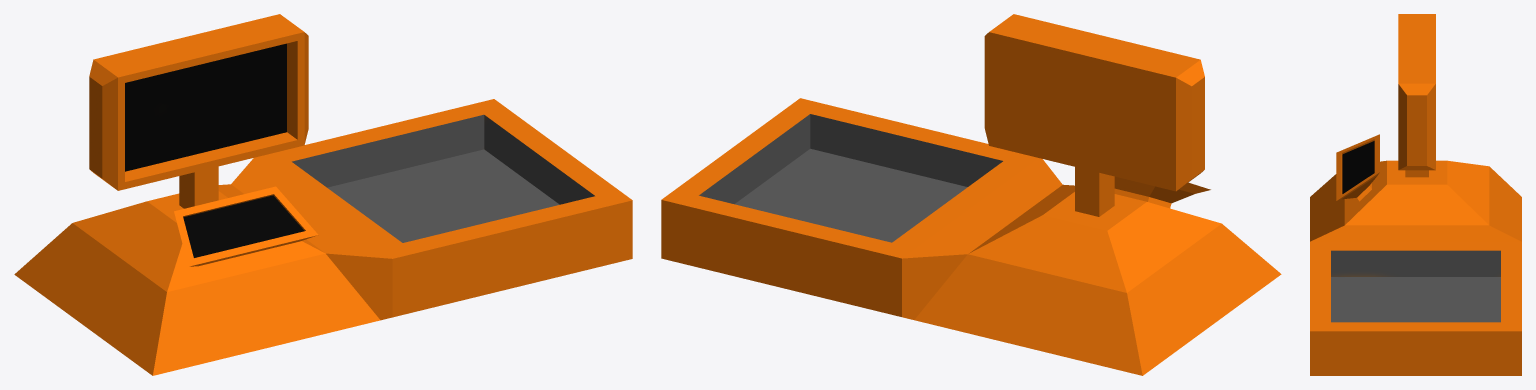
Rendered from shop.glb.
The picture shows the model from 3 angles, left to right: view 1: azimuth 30°, elevation 25°; view 2: azimuth 150°, elevation 25°; view 3: azimuth 270°, elevation 25°; orthographic projection. The views are drawn at different scales.
Parts seen in each view (by area): view 1: Cube.001; view 2: Cube.001; view 3: Cube.001.
Boxes of the visible parts, x1=… form: Cube.001: x1=14, y1=14, x2=632, y2=375; Cube.001: x1=661, y1=14, x2=1281, y2=375; Cube.001: x1=1310, y1=14, x2=1521, y2=375.
Size of the model in its own units: 2 by 0.9979 by 1.
1 material, 1 textured.
